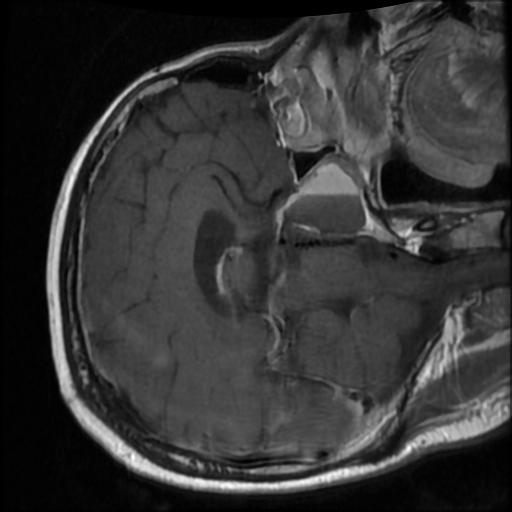pituitary tumour: (268, 155, 367, 242)
